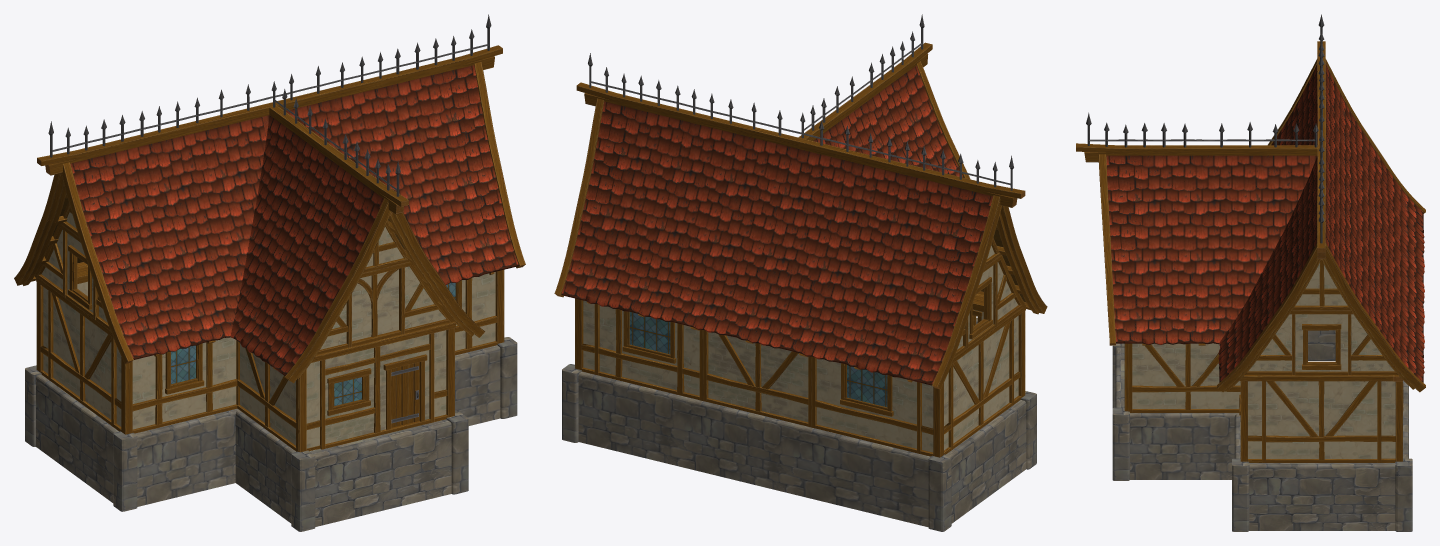
The model's file is house_2x2_01_merged_(1).gltf.
3 renders of one model, left to right at view 1: azimuth 30°, elevation 25°; view 2: azimuth 150°, elevation 25°; view 3: azimuth 270°, elevation 25°, orthographic. The views are drawn at different scales.
Parts seen in each view (by area): view 1: House_2x2_01_Merged (1); view 2: House_2x2_01_Merged (1); view 3: House_2x2_01_Merged (1).
Part boxes in pixels (x1,y1,x2,y2): House_2x2_01_Merged (1): (14, 14, 525, 531); House_2x2_01_Merged (1): (554, 14, 1047, 531); House_2x2_01_Merged (1): (1076, 14, 1425, 531).
Bounding box in the file's own units: 20.47 × 15.29 × 14.66.
8 materials, 8 textured.
